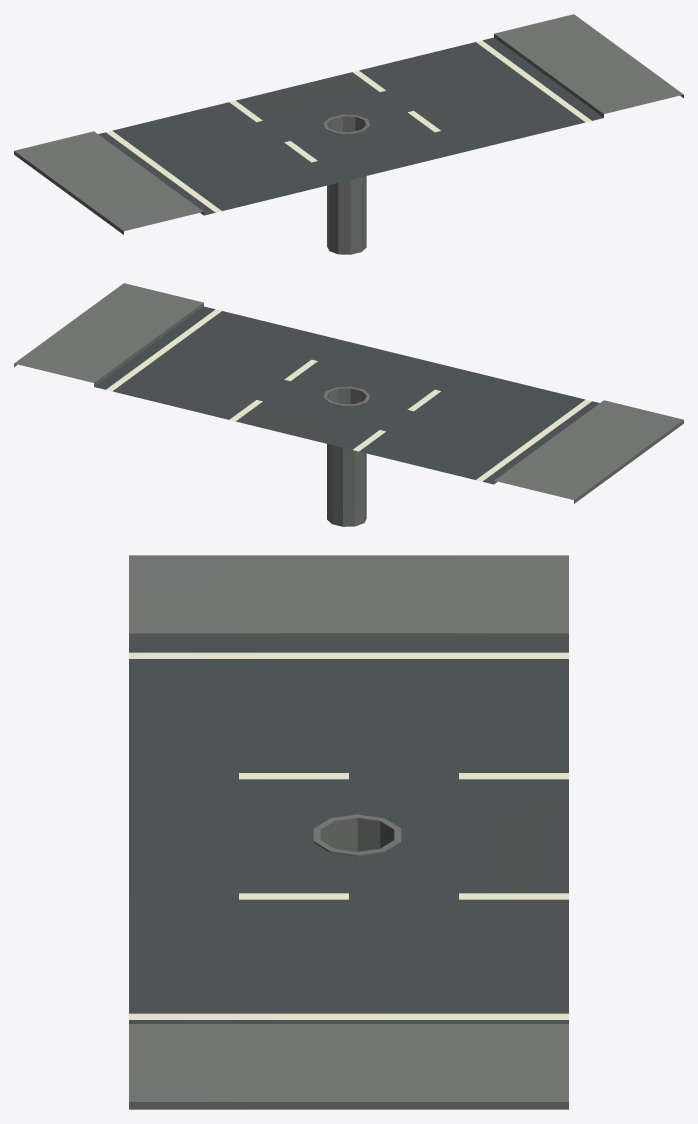
Rendered from city_road_manhole.glb.
3 views of the same model, one above another, from view 1: azimuth 30°, elevation 25°; view 2: azimuth 150°, elevation 25°; view 3: azimuth 270°, elevation 25° (orthographic). The views are drawn at different scales.
Parts seen in each view (by area): view 1: Road_Manhole_2_Mat_0; view 2: Road_Manhole_2_Mat_0; view 3: Road_Manhole_2_Mat_0.
Boxes of the visible parts, bbox=[...] form: Road_Manhole_2_Mat_0: bbox=[14, 14, 683, 254]; Road_Manhole_2_Mat_0: bbox=[14, 283, 683, 526]; Road_Manhole_2_Mat_0: bbox=[129, 555, 568, 1109].
Size of the model in its own units: 6 by 1.29 by 2.04.
1 material, 1 textured.
